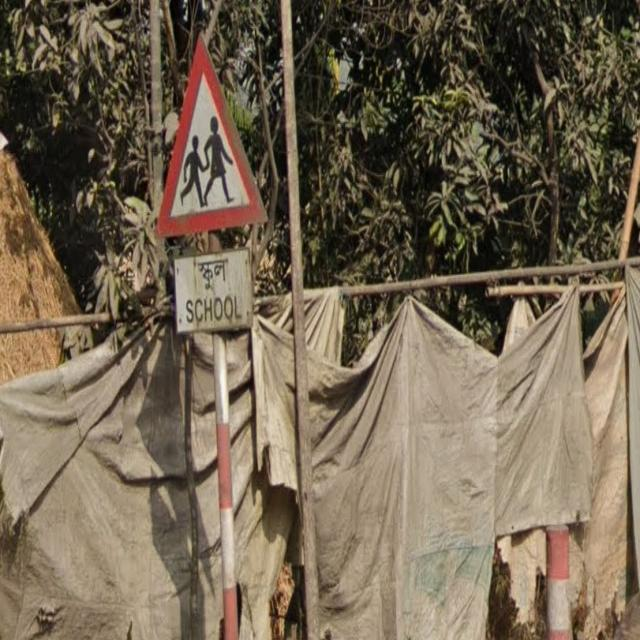School-in-front: (155, 31, 267, 345)
